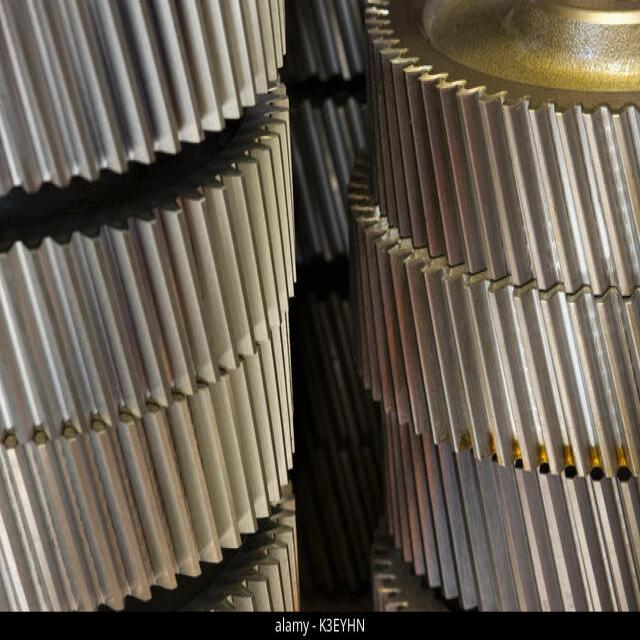Gear: (0, 72, 300, 451), (345, 139, 640, 484), (0, 309, 297, 613), (363, 0, 640, 299), (0, 0, 287, 198), (380, 408, 640, 610), (125, 474, 302, 614), (290, 442, 385, 600), (292, 288, 385, 445), (290, 94, 367, 269), (368, 510, 452, 612), (283, 0, 367, 88)
